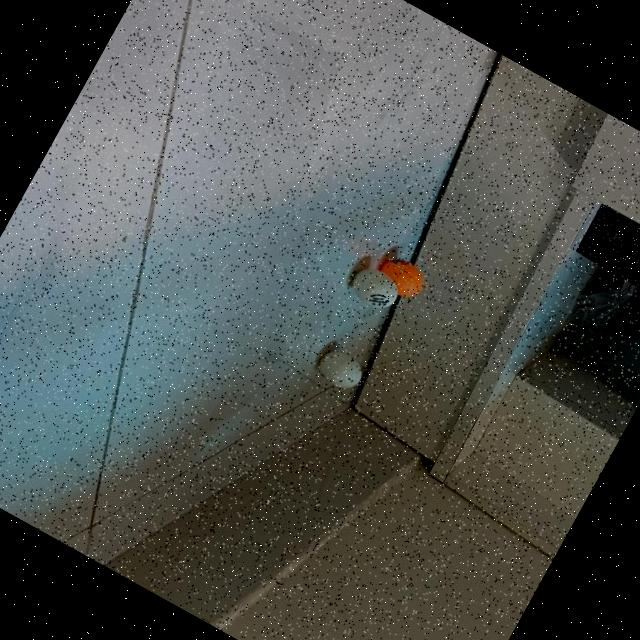ping-pong-ball: (344, 262, 404, 318), (372, 252, 431, 306), (312, 346, 368, 396)
